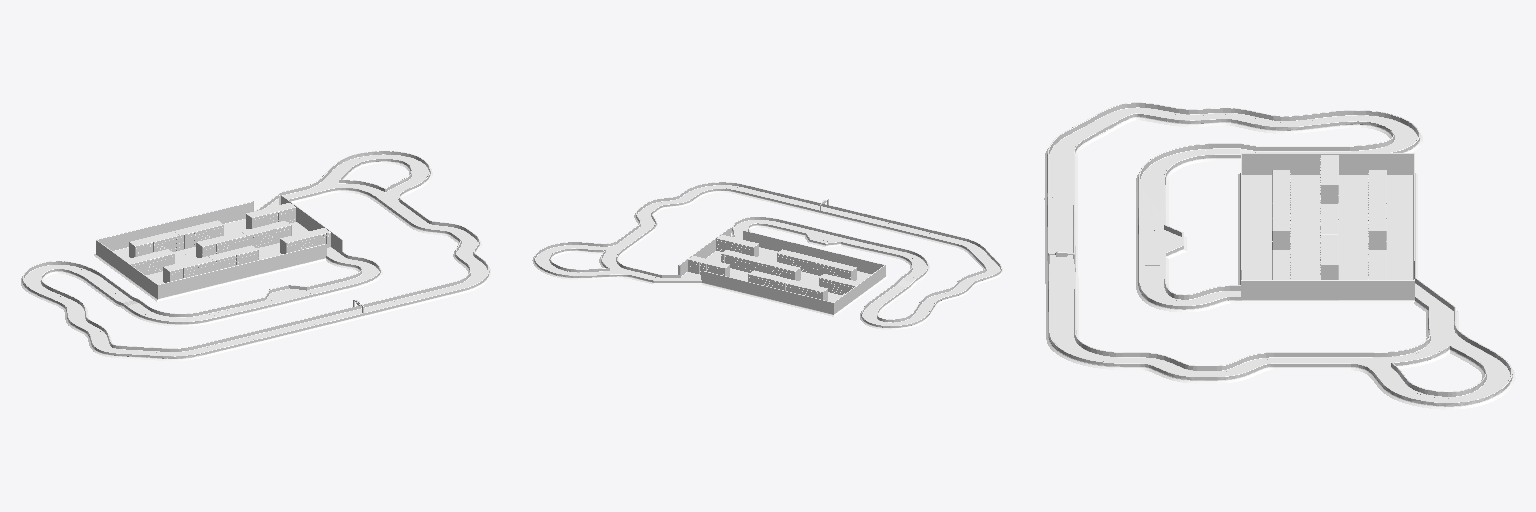
The robot description file, URDF, robot "track_v5":
<?xml version="1.0" encoding="utf-8"?>
<!-- This URDF was automatically created by SolidWorks to URDF Exporter! Originally created by [author] ([email redacted]) 
     Commit Version: 1.6.0-1-g15f4949  Build Version: 1.6.7594.29634
     For more information, please see http://wiki.ros.org/sw_urdf_exporter -->
<robot
  name="track_v5">
  <link
    name="base_link">
  </link>
  <link
    name="track_Link">
    <inertial>
      <origin
        xyz="-0.040297 1.0699 0.50079"
        rpy="0 0 0" />
      <mass
        value="5800.2" />
      <inertia
        ixx="31576"
        ixy="2108"
        ixz="78.334"
        iyy="42308"
        iyz="15.279"
        izz="73548" />
    </inertial>
    <visual>
      <origin
        xyz="0 0 0"
        rpy="0 0 0" />
      <geometry>
        <mesh
          filename="package://track_v5/meshes/track_Link.STL" />
      </geometry>
      <material
        name="">
        <color
          rgba="1 1 1 1" />
      </material>
    </visual>
    <collision>
      <origin
        xyz="0 0 0"
        rpy="0 0 0" />
      <geometry>
        <mesh
          filename="package://track_v5/meshes/track_Link.STL" />
      </geometry>
    </collision>
  </link>
  <joint
    name="track_joint"
    type="fixed">
    <origin
      xyz="0 0 0"
      rpy="0 0 0" />
    <parent
      link="base_link" />
    <child
      link="track_Link" />
    <axis
      xyz="0 0 0" />
  </joint>
  <link
    name="start_Link">
    <inertial>
      <origin
        xyz="4.4409E-16 8.8818E-16 -0.00016245"
        rpy="0 0 0" />
      <mass
        value="0.27481" />
      <inertia
        ixx="0.014324"
        ixy="-3.5297E-05"
        ixz="-3.1304E-19"
        iyy="0.0049099"
        iyz="-4.6303E-19"
        izz="0.019234" />
    </inertial>
    <visual>
      <origin
        xyz="0 0 0"
        rpy="0 0 0" />
      <geometry>
        <mesh
          filename="package://track_v5/meshes/start_Link.STL" />
      </geometry>
      <material
        name="">
        <color
          rgba="1 1 1 1" />
      </material>
    </visual>
    <collision>
      <origin
        xyz="0 0 0"
        rpy="0 0 0" />
      <geometry>
        <mesh
          filename="package://track_v5/meshes/start_Link.STL" />
      </geometry>
    </collision>
  </link>
  <joint
    name="start_joint"
    type="fixed">
    <origin
      xyz="1.5972 -5.9217 0.40276"
      rpy="0 0 0.005014" />
    <parent
      link="track_Link" />
    <child
      link="start_Link" />
    <axis
      xyz="0 0 0" />
  </joint>
  <link
    name="traffic_Link">
    <inertial>
      <origin
        xyz="-0.004653 -0.0033567 0"
        rpy="0 0 0" />
      <mass
        value="0.45192" />
      <inertia
        ixx="0.00054476"
        ixy="1.2933E-06"
        ixz="-4.9541E-20"
        iyy="0.00028682"
        iyz="-2.4586E-22"
        izz="0.00028682" />
    </inertial>
    <visual>
      <origin
        xyz="0 0 0"
        rpy="0 0 0" />
      <geometry>
        <mesh
          filename="package://track_v5/meshes/traffic_Link.STL" />
      </geometry>
      <material
        name="">
        <color
          rgba="1 1 1 1" />
      </material>
    </visual>
    <collision>
      <origin
        xyz="0 0 0"
        rpy="0 0 0" />
      <geometry>
        <mesh
          filename="package://track_v5/meshes/traffic_Link.STL" />
      </geometry>
    </collision>
  </link>
  <joint
    name="traffic_joint"
    type="fixed">
    <origin
      xyz="1.5422 -5.922 0.9308"
      rpy="0 0 0" />
    <parent
      link="track_Link" />
    <child
      link="traffic_Link" />
    <axis
      xyz="0 0 0" />
  </joint>
  <link
    name="plant1_Link">
    <inertial>
      <origin
        xyz="-1.843E-13 2.6645E-15 -0.38022"
        rpy="0 0 0" />
      <mass
        value="1090.8" />
      <inertia
        ixx="84.984"
        ixy="5.6107E-15"
        ixz="1.8011E-13"
        iyy="576.13"
        iyz="9.5863E-14"
        izz="556.2" />
    </inertial>
    <visual>
      <origin
        xyz="0 0 0"
        rpy="0 0 0" />
      <geometry>
        <mesh
          filename="package://track_v5/meshes/plant1_Link.STL" />
      </geometry>
      <material
        name="">
        <color
          rgba="1 1 1 1" />
      </material>
    </visual>
    <collision>
      <origin
        xyz="0 0 0"
        rpy="0 0 0" />
      <geometry>
        <mesh
          filename="package://track_v5/meshes/plant1_Link.STL" />
      </geometry>
    </collision>
  </link>
  <joint
    name="plant1_joint"
    type="fixed">
    <origin
      xyz="2.94 4.5767 1.1632"
      rpy="0 0 0" />
    <parent
      link="track_Link" />
    <child
      link="plant1_Link" />
    <axis
      xyz="0 0 0" />
  </joint>
  <link
    name="plant2_Link">
    <inertial>
      <origin
        xyz="1.1102E-16 0 -0.38022"
        rpy="0 0 0" />
      <mass
        value="1090.8" />
      <inertia
        ixx="84.984"
        ixy="-3.2255E-15"
        ixz="-2.6558E-15"
        iyy="576.13"
        iyz="1.0011E-15"
        izz="556.2" />
    </inertial>
    <visual>
      <origin
        xyz="0 0 0"
        rpy="0 0 0" />
      <geometry>
        <mesh
          filename="package://track_v5/meshes/plant2_Link.STL" />
      </geometry>
      <material
        name="">
        <color
          rgba="1 1 1 1" />
      </material>
    </visual>
    <collision>
      <origin
        xyz="0 0 0"
        rpy="0 0 0" />
      <geometry>
        <mesh
          filename="package://track_v5/meshes/plant2_Link.STL" />
      </geometry>
    </collision>
  </link>
  <joint
    name="plant2_joint"
    type="fixed">
    <origin
      xyz="-0.95 4.5767 1.1632"
      rpy="0 0 0" />
    <parent
      link="track_Link" />
    <child
      link="plant2_Link" />
    <axis
      xyz="0 0 0" />
  </joint>
  <link
    name="plant3_Link">
    <inertial>
      <origin
        xyz="4.4409E-16 0 -0.38022"
        rpy="0 0 0" />
      <mass
        value="1090.8" />
      <inertia
        ixx="84.984"
        ixy="9.2157E-16"
        ixz="-1.5504E-14"
        iyy="576.13"
        iyz="6.8467E-16"
        izz="556.2" />
    </inertial>
    <visual>
      <origin
        xyz="0 0 0"
        rpy="0 0 0" />
      <geometry>
        <mesh
          filename="package://track_v5/meshes/plant3_Link.STL" />
      </geometry>
      <material
        name="">
        <color
          rgba="1 1 1 1" />
      </material>
    </visual>
    <collision>
      <origin
        xyz="0 0 0"
        rpy="0 0 0" />
      <geometry>
        <mesh
          filename="package://track_v5/meshes/plant3_Link.STL" />
      </geometry>
    </collision>
  </link>
  <joint
    name="plant3_joint"
    type="fixed">
    <origin
      xyz="-3.35 4.5767 1.1632"
      rpy="0 0 0" />
    <parent
      link="track_Link" />
    <child
      link="plant3_Link" />
    <axis
      xyz="0 0 0" />
  </joint>
  <link
    name="plant4_Link">
    <inertial>
      <origin
        xyz="0 0 -0.38022"
        rpy="0 0 0" />
      <mass
        value="1090.8" />
      <inertia
        ixx="84.984"
        ixy="6.7559E-14"
        ixz="-4.8779E-14"
        iyy="576.13"
        iyz="-1.0843E-14"
        izz="556.2" />
    </inertial>
    <visual>
      <origin
        xyz="0 0 0"
        rpy="0 0 0" />
      <geometry>
        <mesh
          filename="package://track_v5/meshes/plant4_Link.STL" />
      </geometry>
      <material
        name="">
        <color
          rgba="1 1 1 1" />
      </material>
    </visual>
    <collision>
      <origin
        xyz="0 0 0"
        rpy="0 0 0" />
      <geometry>
        <mesh
          filename="package://track_v5/meshes/plant4_Link.STL" />
      </geometry>
    </collision>
  </link>
  <joint
    name="plant4_joint"
    type="fixed">
    <origin
      xyz="1.75 2.9767 1.1632"
      rpy="0 0 0" />
    <parent
      link="track_Link" />
    <child
      link="plant4_Link" />
    <axis
      xyz="0 0 0" />
  </joint>
  <link
    name="plant5_Link">
    <inertial>
      <origin
        xyz="7.7716E-16 0 -0.38022"
        rpy="0 0 0" />
      <mass
        value="1090.8" />
      <inertia
        ixx="84.984"
        ixy="-8.7143E-15"
        ixz="-1.0391E-12"
        iyy="576.13"
        iyz="3.5669E-15"
        izz="556.2" />
    </inertial>
    <visual>
      <origin
        xyz="0 0 0"
        rpy="0 0 0" />
      <geometry>
        <mesh
          filename="package://track_v5/meshes/plant5_Link.STL" />
      </geometry>
      <material
        name="">
        <color
          rgba="1 1 1 1" />
      </material>
    </visual>
    <collision>
      <origin
        xyz="0 0 0"
        rpy="0 0 0" />
      <geometry>
        <mesh
          filename="package://track_v5/meshes/plant5_Link.STL" />
      </geometry>
    </collision>
  </link>
  <joint
    name="plant5_joint"
    type="fixed">
    <origin
      xyz="-0.65 2.9767 1.1632"
      rpy="0 0 0" />
    <parent
      link="track_Link" />
    <child
      link="plant5_Link" />
    <axis
      xyz="0 0 0" />
  </joint>
  <link
    name="plant6_Link">
    <inertial>
      <origin
        xyz="0 0 -0.38022"
        rpy="0 0 0" />
      <mass
        value="1090.8" />
      <inertia
        ixx="84.984"
        ixy="1.4962E-14"
        ixz="-8.3181E-15"
        iyy="576.13"
        iyz="8.7316E-15"
        izz="556.2" />
    </inertial>
    <visual>
      <origin
        xyz="0 0 0"
        rpy="0 0 0" />
      <geometry>
        <mesh
          filename="package://track_v5/meshes/plant6_Link.STL" />
      </geometry>
      <material
        name="">
        <color
          rgba="1 1 1 1" />
      </material>
    </visual>
    <collision>
      <origin
        xyz="0 0 0"
        rpy="0 0 0" />
      <geometry>
        <mesh
          filename="package://track_v5/meshes/plant6_Link.STL" />
      </geometry>
    </collision>
  </link>
  <joint
    name="plant6_joint"
    type="fixed">
    <origin
      xyz="-4.55 2.9767 1.1632"
      rpy="0 0 0" />
    <parent
      link="track_Link" />
    <child
      link="plant6_Link" />
    <axis
      xyz="0 0 0" />
  </joint>
  <link
    name="plant7_Link">
    <inertial>
      <origin
        xyz="0 0 -0.38022"
        rpy="0 0 0" />
      <mass
        value="1090.8" />
      <inertia
        ixx="84.984"
        ixy="-2.8929E-13"
        ixz="5.3568E-14"
        iyy="576.13"
        iyz="-1.0374E-14"
        izz="556.2" />
    </inertial>
    <visual>
      <origin
        xyz="0 0 0"
        rpy="0 0 0" />
      <geometry>
        <mesh
          filename="package://track_v5/meshes/plant7_Link.STL" />
      </geometry>
      <material
        name="">
        <color
          rgba="1 1 1 1" />
      </material>
    </visual>
    <collision>
      <origin
        xyz="0 0 0"
        rpy="0 0 0" />
      <geometry>
        <mesh
          filename="package://track_v5/meshes/plant7_Link.STL" />
      </geometry>
    </collision>
  </link>
  <joint
    name="plant7_joint"
    type="fixed">
    <origin
      xyz="2.95 1.3767 1.1632"
      rpy="0 0 0" />
    <parent
      link="track_Link" />
    <child
      link="plant7_Link" />
    <axis
      xyz="0 0 0" />
  </joint>
  <link
    name="plant8_Link">
    <inertial>
      <origin
        xyz="2.2204E-16 0 -0.38022"
        rpy="0 0 0" />
      <mass
        value="1090.8" />
      <inertia
        ixx="84.984"
        ixy="4.0447E-14"
        ixz="-1.4343E-13"
        iyy="576.13"
        iyz="-8.3036E-15"
        izz="556.2" />
    </inertial>
    <visual>
      <origin
        xyz="0 0 0"
        rpy="0 0 0" />
      <geometry>
        <mesh
          filename="package://track_v5/meshes/plant8_Link.STL" />
      </geometry>
      <material
        name="">
        <color
          rgba="1 1 1 1" />
      </material>
    </visual>
    <collision>
      <origin
        xyz="0 0 0"
        rpy="0 0 0" />
      <geometry>
        <mesh
          filename="package://track_v5/meshes/plant8_Link.STL" />
      </geometry>
    </collision>
  </link>
  <joint
    name="plant8_joint"
    type="fixed">
    <origin
      xyz="-0.95 1.3767 1.1632"
      rpy="0 0 0" />
    <parent
      link="track_Link" />
    <child
      link="plant8_Link" />
    <axis
      xyz="0 0 0" />
  </joint>
  <link
    name="plant9_Link">
    <inertial>
      <origin
        xyz="0 0 -0.38022"
        rpy="0 0 0" />
      <mass
        value="1090.8" />
      <inertia
        ixx="84.984"
        ixy="7.481E-15"
        ixz="9.9028E-14"
        iyy="576.13"
        iyz="5.9373E-15"
        izz="556.2" />
    </inertial>
    <visual>
      <origin
        xyz="0 0 0"
        rpy="0 0 0" />
      <geometry>
        <mesh
          filename="package://track_v5/meshes/plant9_Link.STL" />
      </geometry>
      <material
        name="">
        <color
          rgba="1 1 1 1" />
      </material>
    </visual>
    <collision>
      <origin
        xyz="0 0 0"
        rpy="0 0 0" />
      <geometry>
        <mesh
          filename="package://track_v5/meshes/plant9_Link.STL" />
      </geometry>
    </collision>
  </link>
  <joint
    name="plant9_joint"
    type="fixed">
    <origin
      xyz="-3.35 1.3767 1.1632"
      rpy="0 0 0" />
    <parent
      link="track_Link" />
    <child
      link="plant9_Link" />
    <axis
      xyz="0 0 0" />
  </joint>
  <link
    name="green_belt_Link">
    <inertial>
      <origin
        xyz="-0.19058 -0.46698 0.40895"
        rpy="0 0 0" />
      <mass
        value="8.9923" />
      <inertia
        ixx="158.34"
        ixy="-62.989"
        ixz="0.3112"
        iyy="463.68"
        iyz="0.048284"
        izz="622.01" />
    </inertial>
    <visual>
      <origin
        xyz="0 0 0"
        rpy="0 0 0" />
      <geometry>
        <mesh
          filename="package://track_v5/meshes/green_belt_Link.STL" />
      </geometry>
      <material
        name="">
        <color
          rgba="1 1 1 1" />
      </material>
    </visual>
    <collision>
      <origin
        xyz="0 0 0"
        rpy="0 0 0" />
      <geometry>
        <mesh
          filename="package://track_v5/meshes/green_belt_Link.STL" />
      </geometry>
    </collision>
  </link>
  <joint
    name="gree_belt_joint"
    type="prismatic">
    <origin
      xyz="0 0 0"
      rpy="0 0 0" />
    <parent
      link="track_Link" />
    <child
      link="green_belt_Link" />
    <axis
      xyz="0 0 -1" />
    <limit
      lower="0"
      upper="0"
      effort="0"
      velocity="0" />
  </joint>
</robot>

--- Facts derived from the render (not from the file) ---
Views: 3 orthographic renders of the robot side by side, from view 1: azimuth 30°, elevation 25°; view 2: azimuth 150°, elevation 25°; view 3: azimuth 270°, elevation 25°.
Robot: track_v5 — 14 links, 13 joints (1 prismatic, 12 fixed); root link base_link; default pose: every joint at zero.
Visible links, largest first — view 1: track_Link, green_belt_Link, plant3_Link, plant4_Link, plant1_Link, plant7_Link, plant5_Link, plant9_Link, plant2_Link, plant6_Link, plant8_Link; view 2: track_Link, green_belt_Link, plant9_Link, plant7_Link, plant4_Link, plant1_Link, plant5_Link, plant8_Link, plant6_Link, plant3_Link; view 3: track_Link, green_belt_Link, plant2_Link, plant8_Link, plant6_Link, plant4_Link, plant5_Link, plant3_Link, plant9_Link, plant1_Link, plant7_Link.
Link boxes in pixels (x1=…): track_Link: x1=21, y1=151, x2=490, y2=360; green_belt_Link: x1=24, y1=155, x2=487, y2=352; plant3_Link: x1=129, y1=231, x2=179, y2=257; plant4_Link: x1=241, y1=221, x2=291, y2=247; plant1_Link: x1=246, y1=203, x2=295, y2=228; plant7_Link: x1=280, y1=228, x2=330, y2=253; plant5_Link: x1=196, y1=231, x2=246, y2=257; plant9_Link: x1=163, y1=256, x2=213, y2=282; plant2_Link: x1=174, y1=220, x2=223, y2=249; plant6_Link: x1=125, y1=249, x2=174, y2=274; plant8_Link: x1=208, y1=245, x2=258, y2=270; track_Link: x1=532, y1=182, x2=1002, y2=329; green_belt_Link: x1=536, y1=185, x2=999, y2=322; plant9_Link: x1=814, y1=259, x2=856, y2=280; plant7_Link: x1=717, y1=235, x2=758, y2=256; plant4_Link: x1=721, y1=250, x2=762, y2=272; plant1_Link: x1=688, y1=256, x2=729, y2=276; plant5_Link: x1=758, y1=259, x2=800, y2=280; plant8_Link: x1=777, y1=249, x2=819, y2=273; plant6_Link: x1=819, y1=274, x2=860, y2=294; plant3_Link: x1=786, y1=280, x2=827, y2=300; track_Link: x1=1044, y1=102, x2=1515, y2=409; green_belt_Link: x1=1049, y1=108, x2=1509, y2=398; plant2_Link: x1=1368, y1=200, x2=1386, y2=249; plant8_Link: x1=1272, y1=200, x2=1290, y2=249; plant6_Link: x1=1320, y1=155, x2=1338, y2=203; plant4_Link: x1=1320, y1=235, x2=1338, y2=279; plant5_Link: x1=1320, y1=204, x2=1338, y2=242; plant3_Link: x1=1368, y1=170, x2=1386, y2=205; plant9_Link: x1=1272, y1=170, x2=1290, y2=205; plant1_Link: x1=1368, y1=250, x2=1386, y2=279; plant7_Link: x1=1272, y1=250, x2=1290, y2=279.
Bounding box of the posed robot: 23.86 × 15.66 × 0.8 m (x, y, z).
Meshes: 13 distinct files referenced, 13 mesh visuals loaded (13 binary STL).